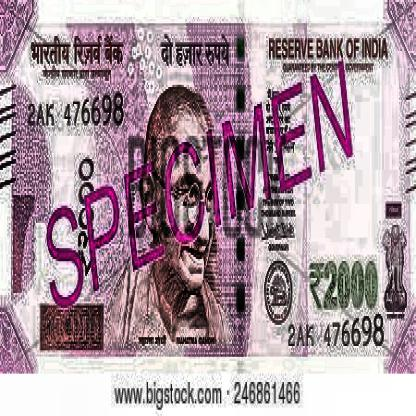Rs2000: (306, 251, 382, 315)
